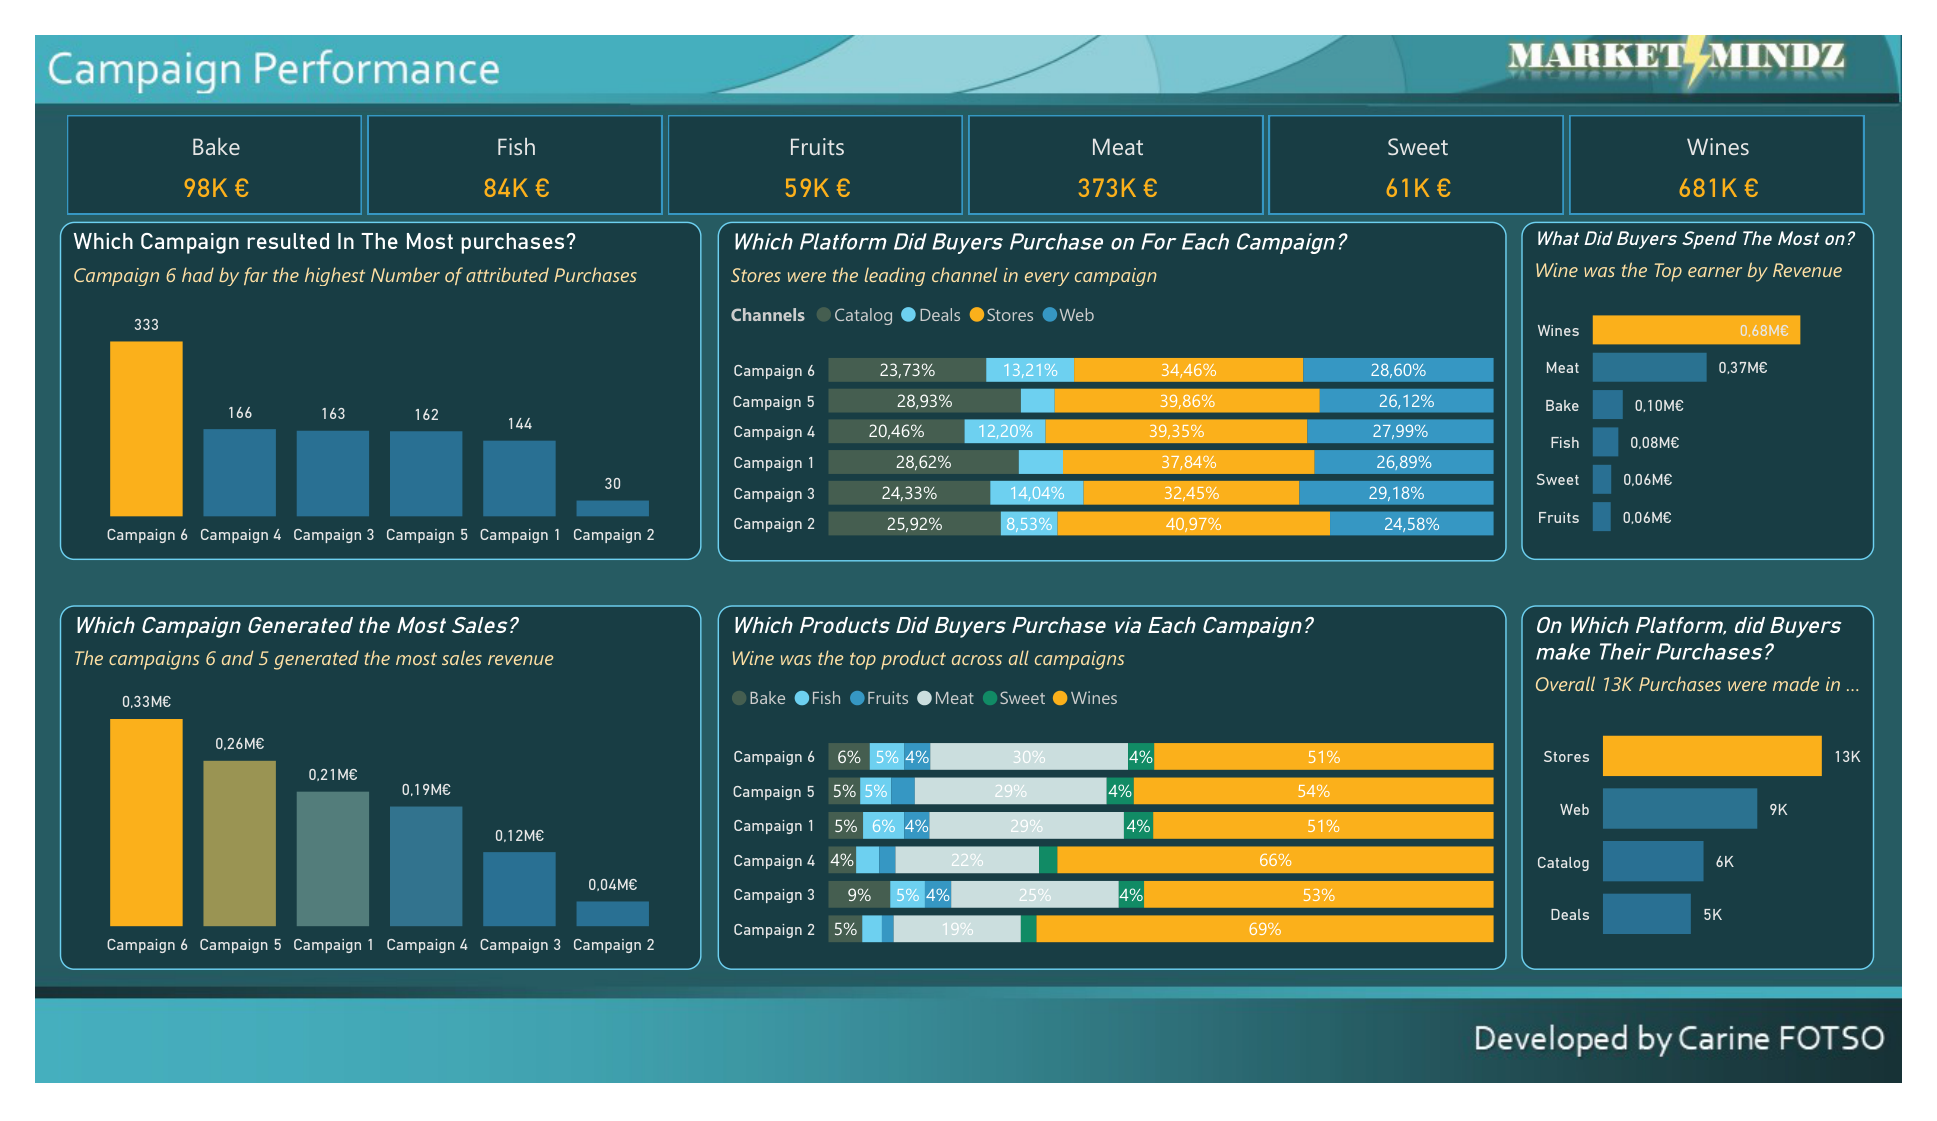

This screenshot's page, from the dashboard's own definition file:
{"tool":"powerbi","page":{"name":"Campaign performance","canvas":[1280,720],"ordinal":1},"visuals":[{"type":"clusteredColumnChart","title":"Which Campaign resulted In The Most purchases?","fields":{"Category":["Campaign.Campaign"],"Y":["Sum(Campaign.Accepted_Ind)"]},"box":[16.5,128.4,440.6,231.5],"z":0},{"type":"hundredPercentStackedBarChart","title":"Which Products Did  Buyers Purchase via Each Campaign?","fields":{"Category":["Campaign.Campaign"],"Series":["Products.products"],"Y":["Sum(Products.Total Sales)"]},"box":[467.8,391,540.8,250],"z":1000},{"type":"columnChart","title":"Which Campaign Generated the Most Sales?","fields":{"Category":["Campaign.Campaign"],"Y":["Sum(Products.Total Sales)"]},"box":[16.5,391,440.6,250],"z":2000},{"type":"barChart","title":"What Did Buyers Spend The Most on?","fields":{"Category":["Products.products"],"Y":["Sum(Products.Total Sales)"]},"box":[1019.3,128.4,241.2,231.5],"z":3000},{"type":"hundredPercentStackedBarChart","title":"Which Platform Did Buyers  Purchase on For Each Campaign?","fields":{"Category":["Campaign.Campaign"],"Series":["Canal.Canals"],"Y":["Sum(Canal.Qtity)"]},"box":[467.8,128.4,540.8,232.5],"z":4000},{"type":"barChart","title":"On Which Platform, did Buyers make Their Purchases?","fields":{"Category":["Canal.Canals"],"Y":["Sum(Canal.Qtity)"]},"box":[1019.3,391,241.2,250],"z":5000},{"type":"cardVisual","fields":{"Data":["Sum(Marketing_data.Amount Bake products)","Sum(Marketing_data.Amount Fish Products)","Sum(Marketing_data.Amount Fruits products)","Sum(Marketing_data.Amount Meat Products)","Sum(Marketing_data.Amount Sweet products)","Sum(Marketing_data.Amount Wines products)"]},"box":[16.5,49.6,1244,78.8],"z":6000}]}

Visuals, with their boxes in screenshot pixels (x1, y1, x2, y2), scaled from the page's 1280x720 canvas onto the 1937x1121 screenshot:
"Which Campaign resulted In The Most purchases?" clusteredColumnChart: 25 200 692 560
"Which Products Did  Buyers Purchase via Each Campaign?" hundredPercentStackedBarChart: 708 609 1526 998
"Which Campaign Generated the Most Sales?" columnChart: 25 609 692 998
"What Did Buyers Spend The Most on?" barChart: 1542 200 1907 560
"Which Platform Did Buyers  Purchase on For Each Campaign?" hundredPercentStackedBarChart: 708 200 1526 562
"On Which Platform, did Buyers make Their Purchases?" barChart: 1542 609 1907 998
cardVisual - Sum(Marketing_data.Amount Bake products) x Sum(Marketing_data.Amount Fish Products): 25 77 1907 200
